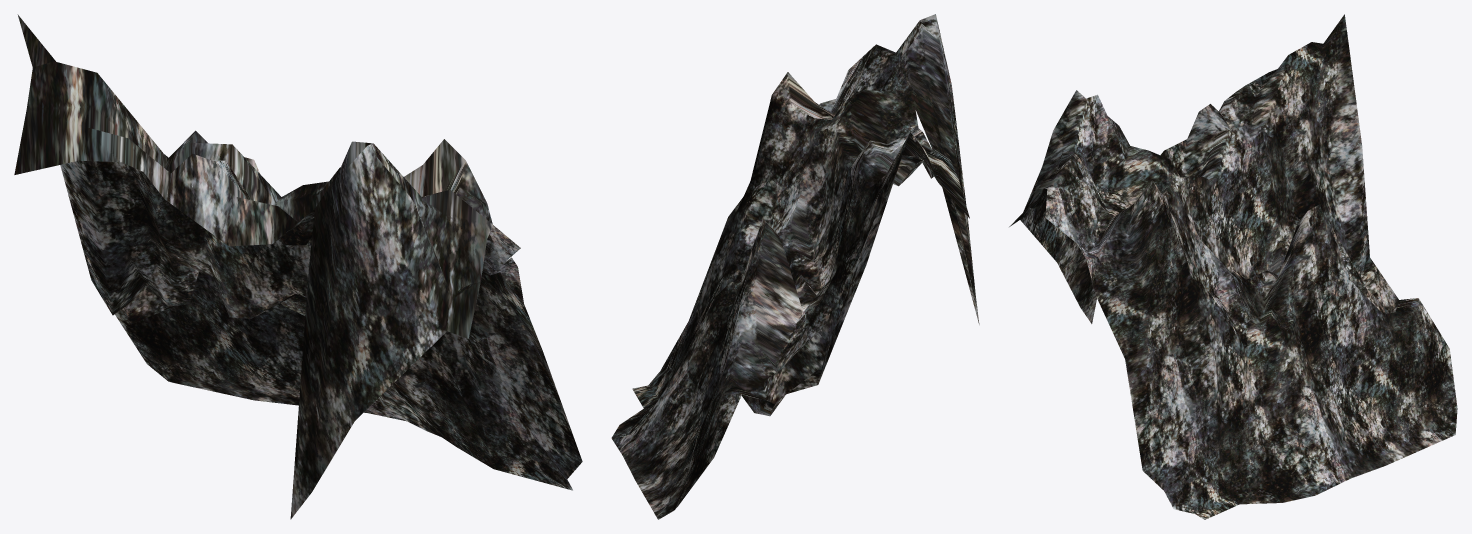
File: OVERHILL_A_01_MOUN1_OBJECT145.fbx
3 views of the same model, side by side, from view 1: azimuth 30°, elevation 25°; view 2: azimuth 150°, elevation 25°; view 3: azimuth 270°, elevation 25° (orthographic). The views are drawn at different scales.
Parts seen in each view (by area): view 1: OVERHILL_A_01_MOUN1_OBJECT145; view 2: OVERHILL_A_01_MOUN1_OBJECT145; view 3: OVERHILL_A_01_MOUN1_OBJECT145.
Boxes of the visible parts, left/top/right/bottom form: OVERHILL_A_01_MOUN1_OBJECT145: left=14, top=14, right=582, bottom=519; OVERHILL_A_01_MOUN1_OBJECT145: left=611, top=14, right=979, bottom=519; OVERHILL_A_01_MOUN1_OBJECT145: left=1009, top=14, right=1457, bottom=519.
Size of the model in its own units: 341404 by 337078 by 388955.
Materials: 1 (1 with a texture image).
